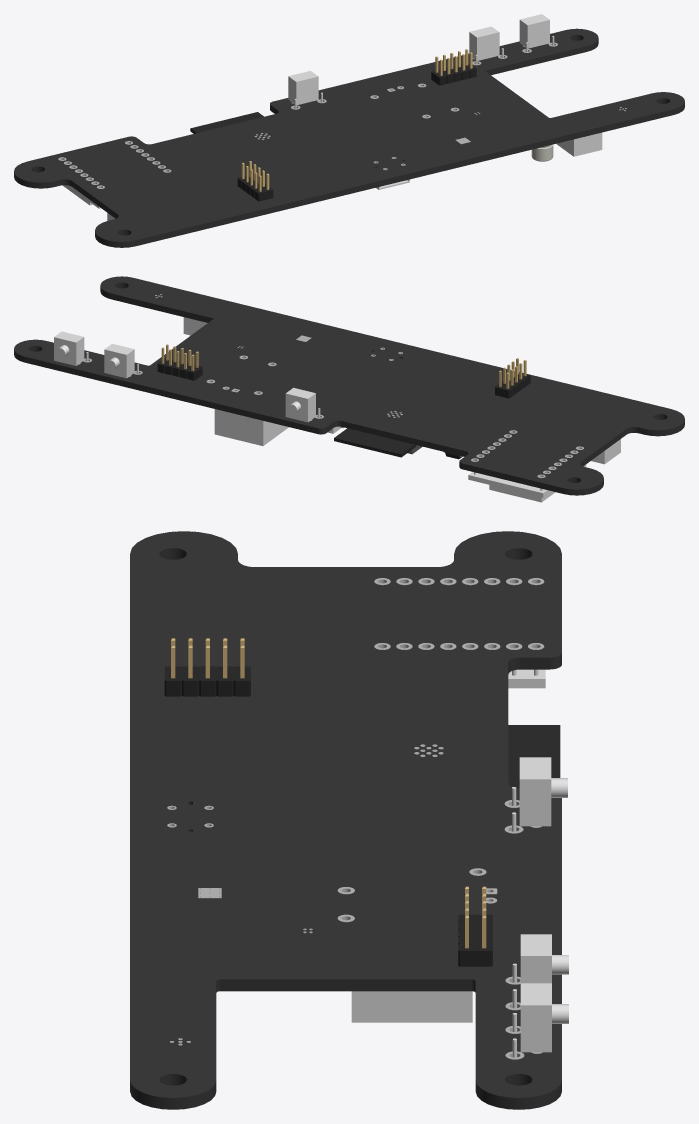
The model's file is main_completed.glb.
3 views of the same model, one above another, from view 1: azimuth 30°, elevation 25°; view 2: azimuth 150°, elevation 25°; view 3: azimuth 270°, elevation 25° (orthographic). The views are drawn at different scales.
Parts seen in each view (by area): view 1: =>[0:1:1:44], J4, =>[0:1:1:43], SW3, SW1, SW2, J3, J2, U11; view 2: =>[0:1:1:44], U9, U11, J4, U6, SW3, =>[0:1:1:43], SW1, SW2, J3; view 3: =>[0:1:1:44], U9, =>[0:1:1:43], J3, SW1, SW3, U11, SW2, J4.
Part boxes in pixels (left/top/right/bottom): =>[0:1:1:44]: left=14, top=28, right=684, bottom=247; J4: left=431, top=49, right=476, bottom=85; =>[0:1:1:43]: left=58, top=42, right=626, bottom=188; SW3: left=519, top=14, right=554, bottom=51; SW1: left=288, top=70, right=322, bottom=108; SW2: left=469, top=26, right=503, bottom=64; J3: left=237, top=161, right=273, bottom=201; J2: left=557, top=132, right=602, bottom=156; U11: left=190, top=112, right=263, bottom=133; =>[0:1:1:44]: left=14, top=276, right=684, bottom=495; U9: left=214, top=409, right=288, bottom=445; U11: left=334, top=428, right=422, bottom=457; J4: left=157, top=344, right=202, bottom=380; U6: left=468, top=464, right=586, bottom=502; SW3: left=54, top=331, right=88, bottom=365; =>[0:1:1:43]: left=79, top=294, right=583, bottom=478; SW1: left=285, top=387, right=320, bottom=422; SW2: left=104, top=343, right=138, bottom=378; J3: left=495, top=358, right=530, bottom=398; =>[0:1:1:44]: left=130, top=531, right=561, bottom=1109; U9: left=351, top=991, right=472, bottom=1022; =>[0:1:1:43]: left=167, top=578, right=544, bottom=1059; J3: left=164, top=638, right=250, bottom=696; SW1: left=512, top=757, right=567, bottom=831; SW3: left=512, top=983, right=568, bottom=1057; U11: left=508, top=725, right=560, bottom=788; SW2: left=512, top=934, right=568, bottom=1008; J4: left=458, top=886, right=492, bottom=966.
Bounding box in the file's own units: 0.1553 × 0.0198 × 0.0508.
